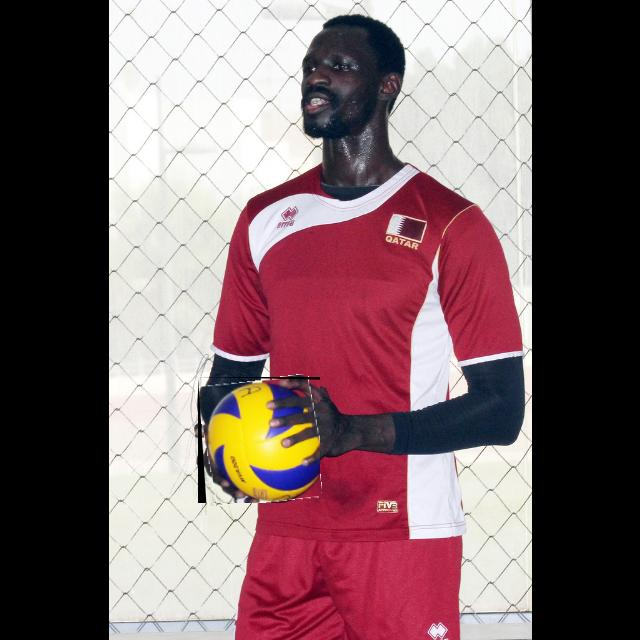Football: (198, 377, 320, 503)
